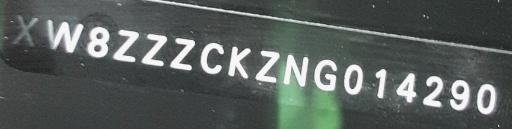letter: (44, 15, 84, 56), (137, 31, 169, 68), (10, 11, 40, 50), (110, 28, 140, 65), (167, 35, 197, 72), (85, 22, 111, 61), (224, 45, 252, 80), (252, 49, 280, 84), (282, 53, 310, 88), (420, 72, 446, 108), (473, 79, 499, 115), (199, 41, 225, 76), (311, 57, 337, 92), (394, 71, 418, 104), (342, 62, 364, 97), (448, 77, 470, 112), (371, 66, 387, 100)
